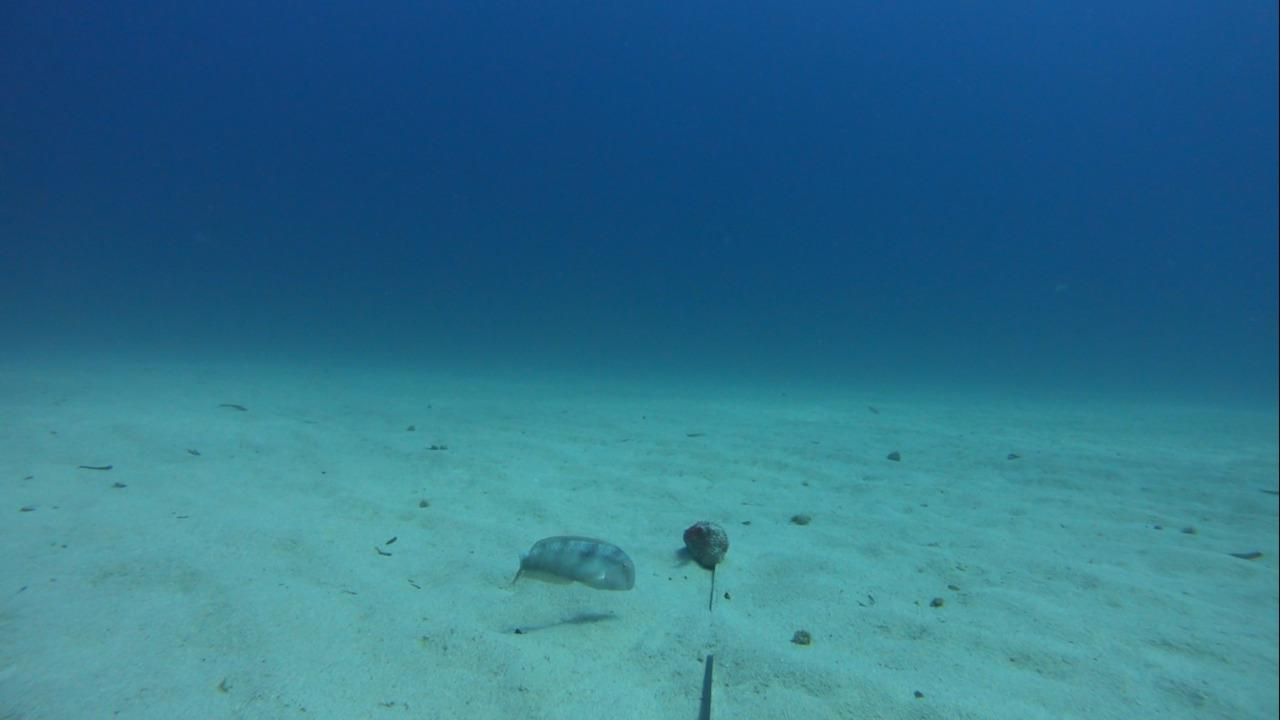raor: (507, 530, 642, 601)
